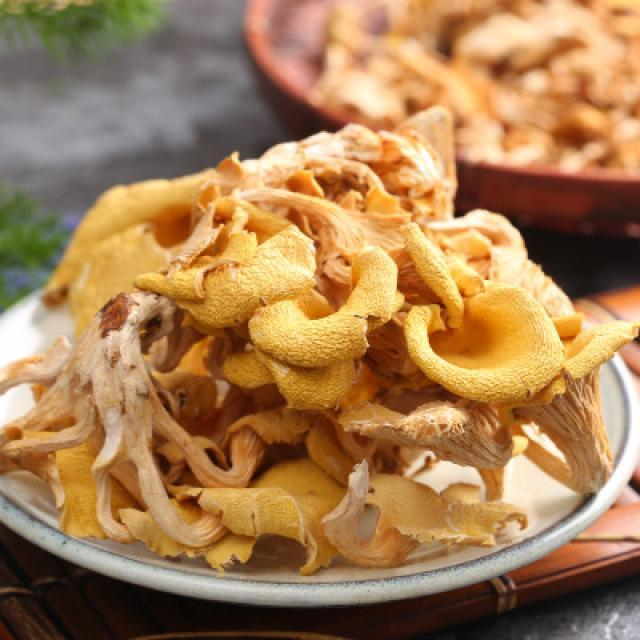Cantharellus cibarius: (7, 145, 638, 562)
